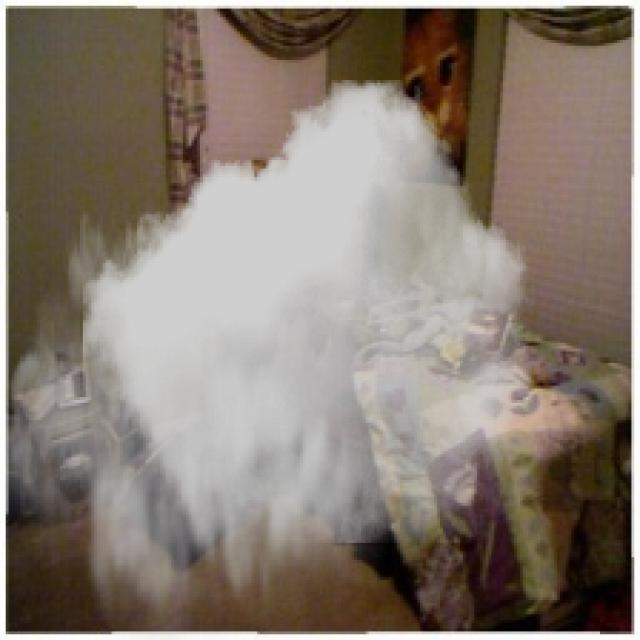Smoke: (5, 80, 538, 637)
